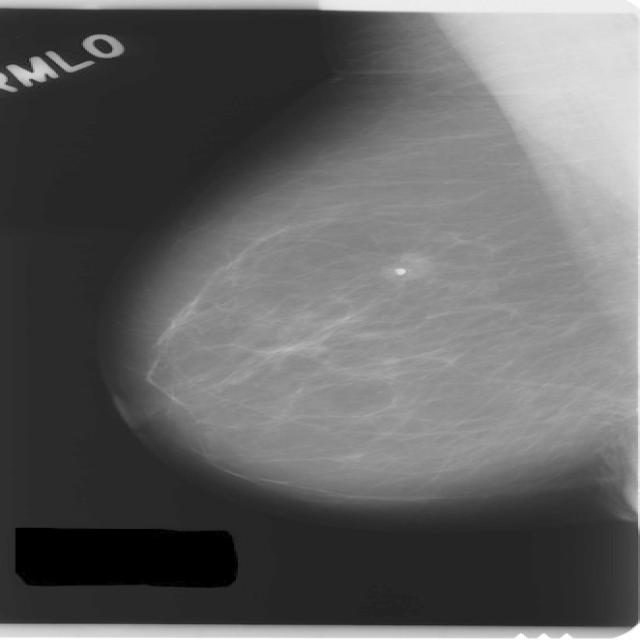tumour: (377, 253, 425, 279)
